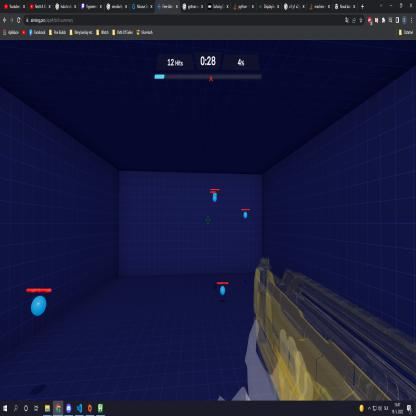sphere: (30, 296, 47, 318), (220, 285, 226, 296), (243, 211, 248, 219), (213, 194, 217, 203), (213, 192, 217, 196)
